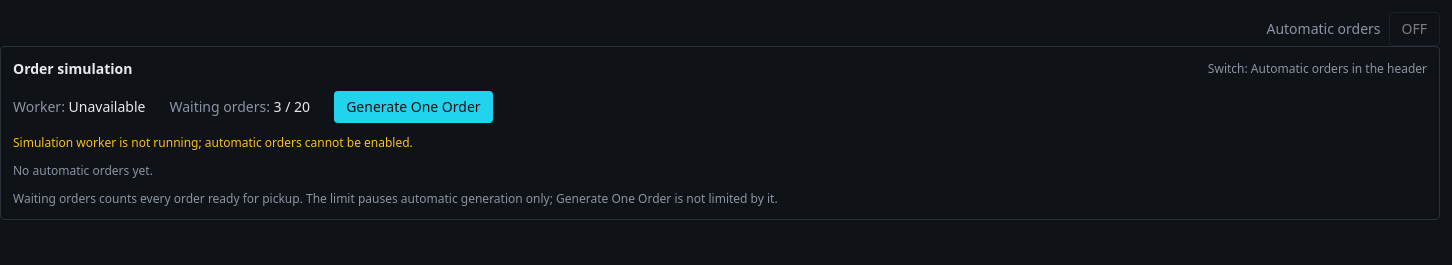
Scenario: OrderSimulationPanel › warns and cannot enable while the worker is not running, but can still generate one order
Check: the switch named "Automatic orders" is disabled, box [1388, 12, 1440, 46]
Check: the text "Unavailable" is shown, box [68, 97, 145, 116]
Click the button "Generate One Order".
click(413, 107)  # box [334, 91, 492, 123]
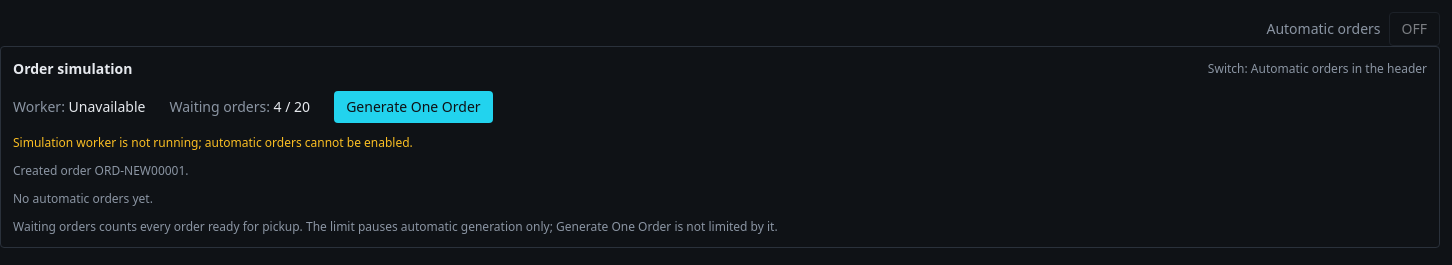
Check: the text "Created order ORD-NEW00001." is shown, box [13, 162, 189, 179]
